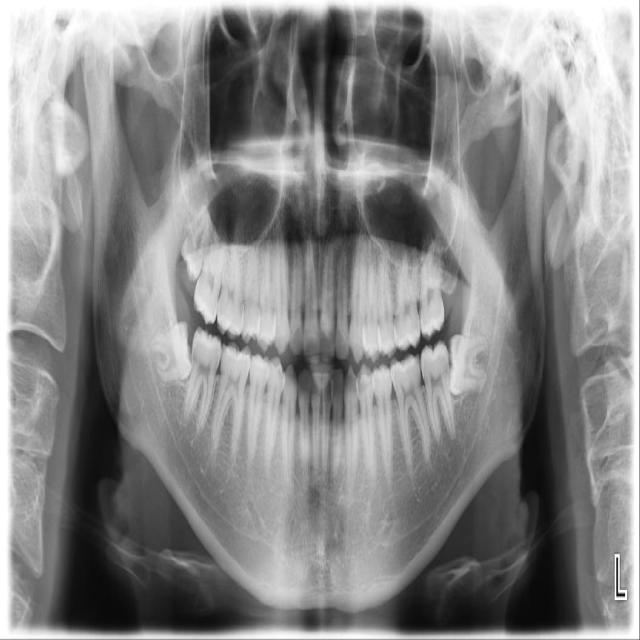impacted tooth: (148, 320, 194, 385), (448, 334, 488, 395), (181, 203, 208, 282)
